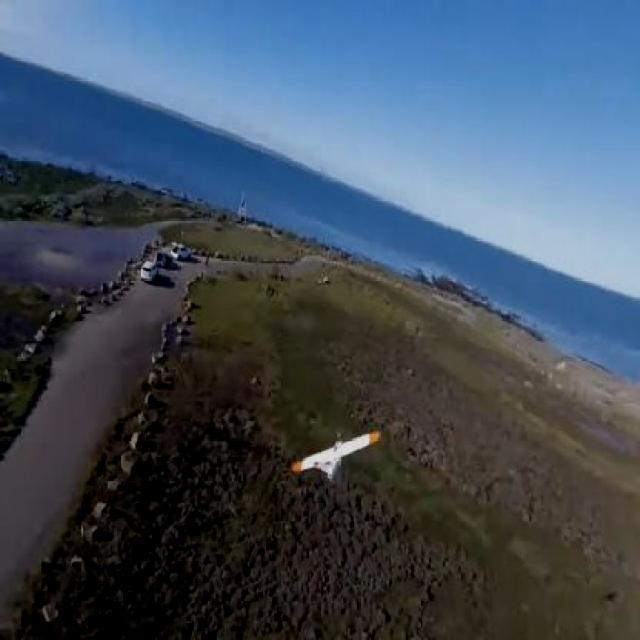iha: (318, 452, 357, 455)
